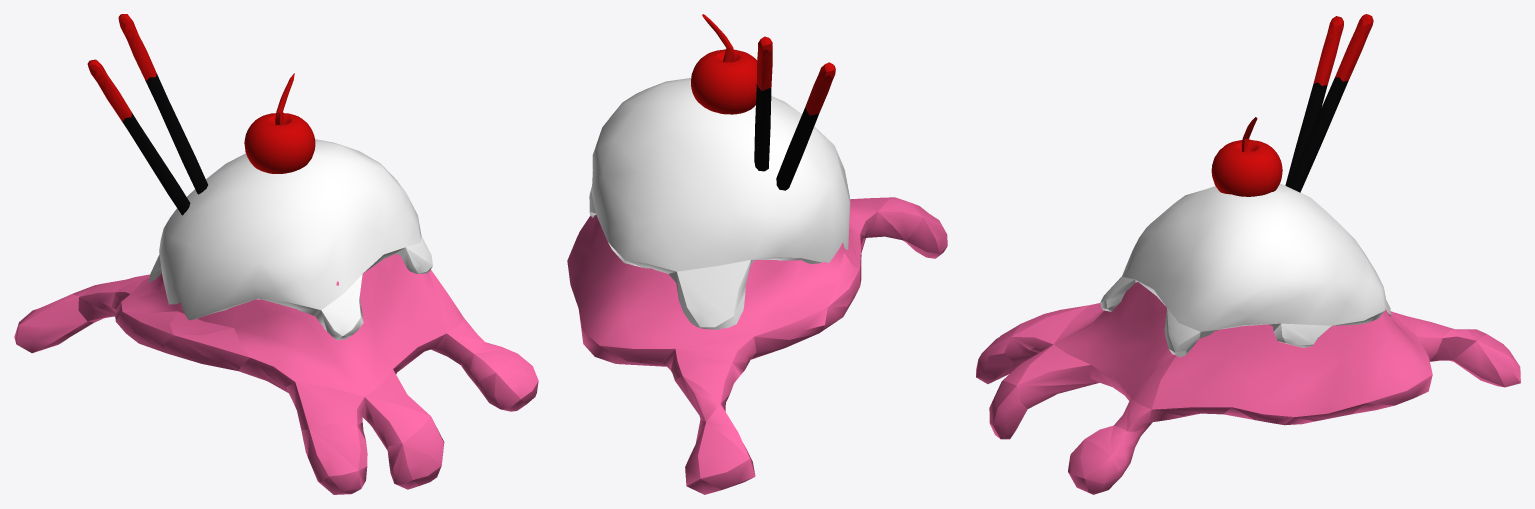
3 views of the same model, side by side, from view 1: azimuth 30°, elevation 25°; view 2: azimuth 150°, elevation 25°; view 3: azimuth 270°, elevation 25° (orthographic). The views are drawn at different scales.
Parts seen in each view (by area): view 1: hat_icecream, icing_003, cherry, pocky_stick_001, pocky_stick; view 2: icing_003, hat_icecream, cherry, pocky_stick, pocky_stick_001; view 3: hat_icecream, icing_003, cherry, pocky_stick_001, pocky_stick.
Part boxes in pixels (left/top/right/bottom): hat_icecream: left=14, top=254, right=538, bottom=494; icing_003: left=149, top=139, right=432, bottom=340; cherry: left=244, top=73, right=315, bottom=173; pocky_stick_001: left=118, top=14, right=207, bottom=194; pocky_stick: left=87, top=59, right=190, bottom=215; icing_003: left=589, top=78, right=850, bottom=329; hat_icecream: left=567, top=197, right=947, bottom=494; cherry: left=691, top=14, right=757, bottom=114; pocky_stick: left=776, top=62, right=835, bottom=190; pocky_stick_001: left=754, top=36, right=772, bottom=171; hat_icecream: left=976, top=265, right=1520, bottom=494; icing_003: left=1100, top=183, right=1390, bottom=357; cherry: left=1211, top=117, right=1282, bottom=196; pocky_stick_001: left=1287, top=14, right=1373, bottom=192; pocky_stick: left=1285, top=16, right=1343, bottom=186.
Bounding box in the file's own units: 34.27 × 49.47 × 38.01.
